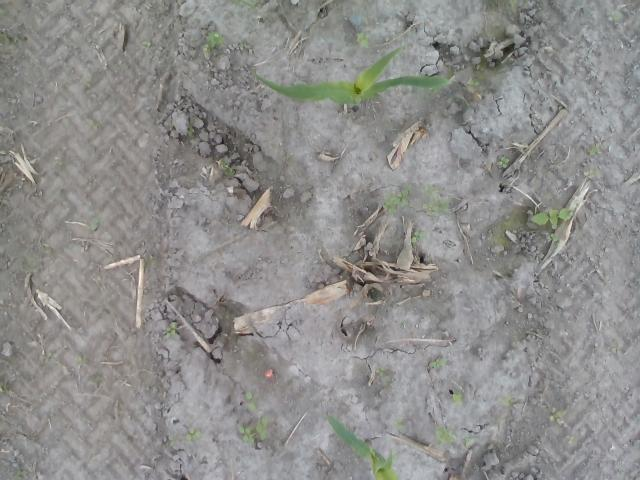Maize: (255, 46, 449, 110), (325, 414, 402, 480)
Weeds: (382, 182, 417, 217), (526, 206, 570, 230), (421, 183, 449, 217), (238, 415, 268, 445), (434, 422, 457, 450), (480, 0, 513, 17), (200, 30, 224, 49), (184, 425, 202, 447), (0, 30, 24, 46), (546, 406, 566, 424), (375, 367, 392, 386), (245, 390, 257, 413), (232, 0, 257, 11), (354, 31, 370, 48), (464, 78, 481, 94), (40, 240, 56, 256), (496, 392, 513, 407), (162, 322, 178, 337), (15, 467, 33, 480), (164, 432, 177, 450), (495, 154, 510, 169), (412, 228, 427, 243), (220, 160, 234, 176), (462, 434, 478, 448), (428, 358, 448, 369), (74, 352, 88, 366), (88, 216, 102, 230), (451, 392, 464, 407), (494, 233, 506, 249), (85, 118, 102, 129), (588, 143, 602, 156), (606, 10, 624, 20), (583, 168, 600, 178), (48, 351, 56, 368), (565, 434, 577, 445), (55, 156, 64, 170), (544, 232, 558, 241), (0, 382, 9, 395), (238, 41, 250, 50), (0, 5, 9, 17), (392, 418, 400, 431), (256, 374, 266, 384), (142, 39, 152, 49), (610, 343, 620, 353), (186, 127, 194, 138), (398, 223, 404, 231)
